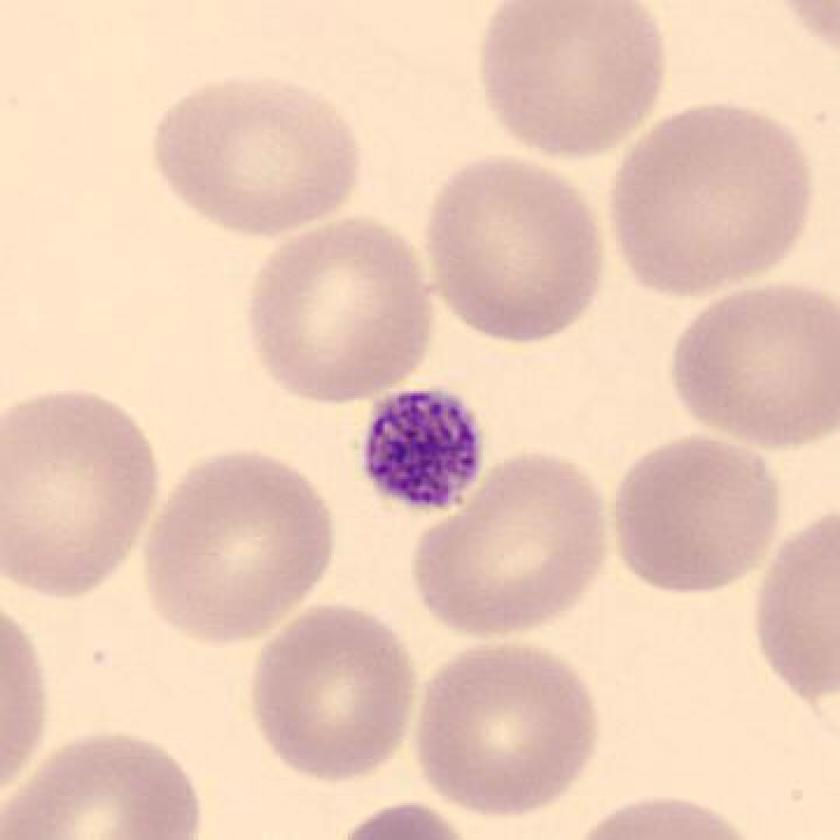platelets: (349, 381, 500, 522)
